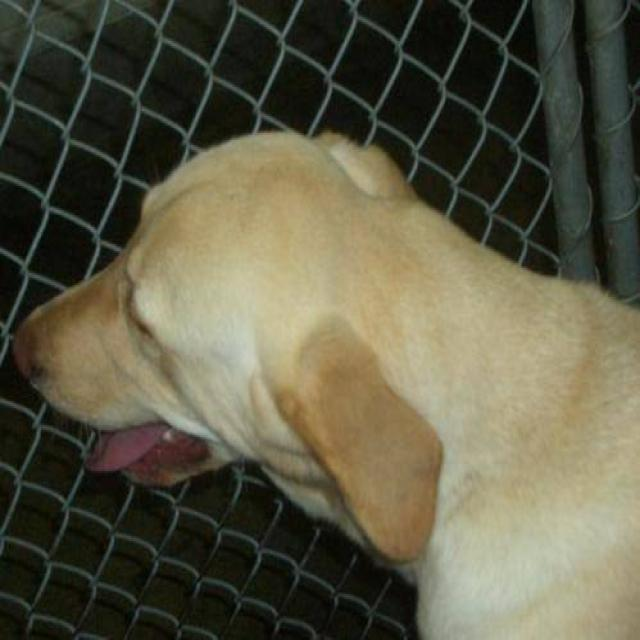dog: (10, 125, 639, 638)
